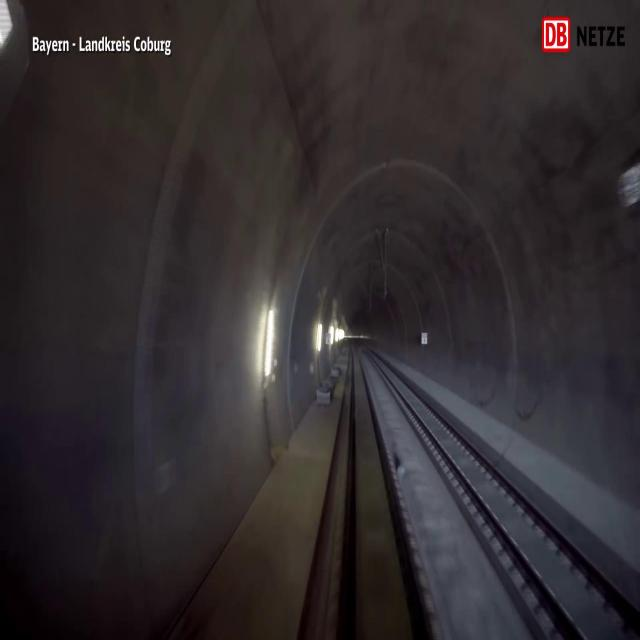rail-track: (379, 362, 640, 639), (344, 344, 428, 639)
